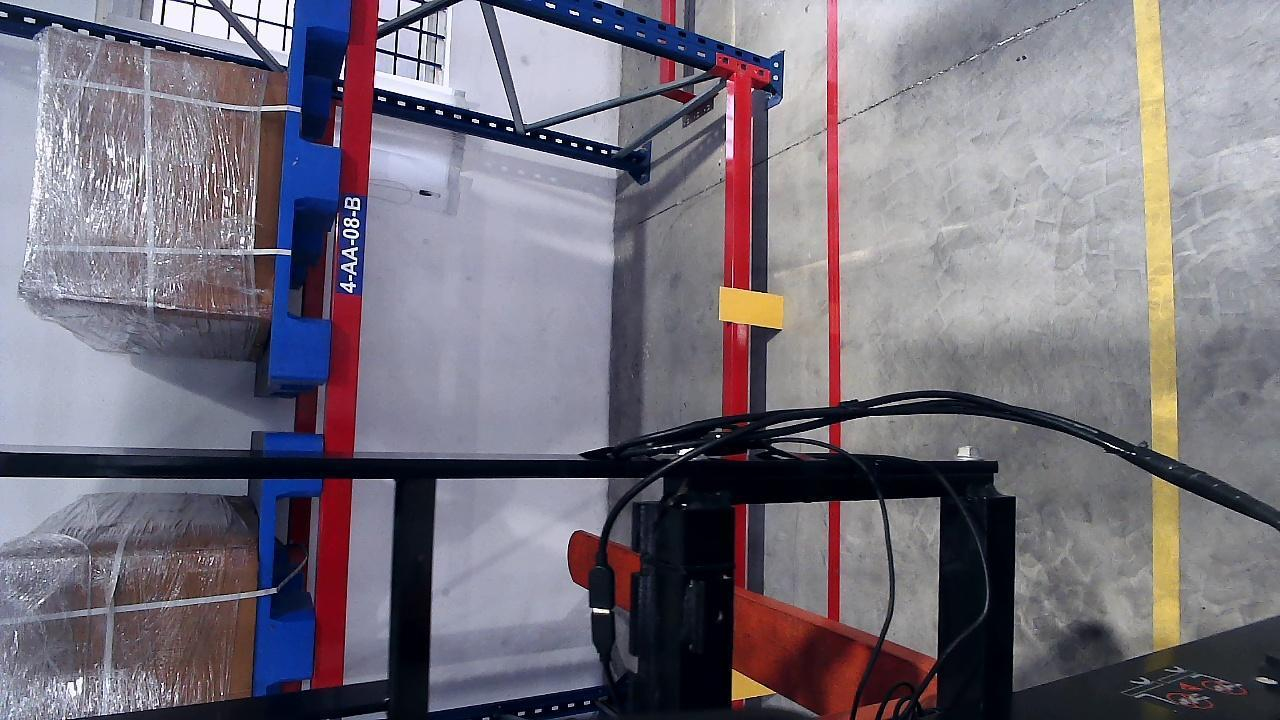red_line: (824, 0, 844, 614)
yellow_line: (1138, 0, 1180, 648)
